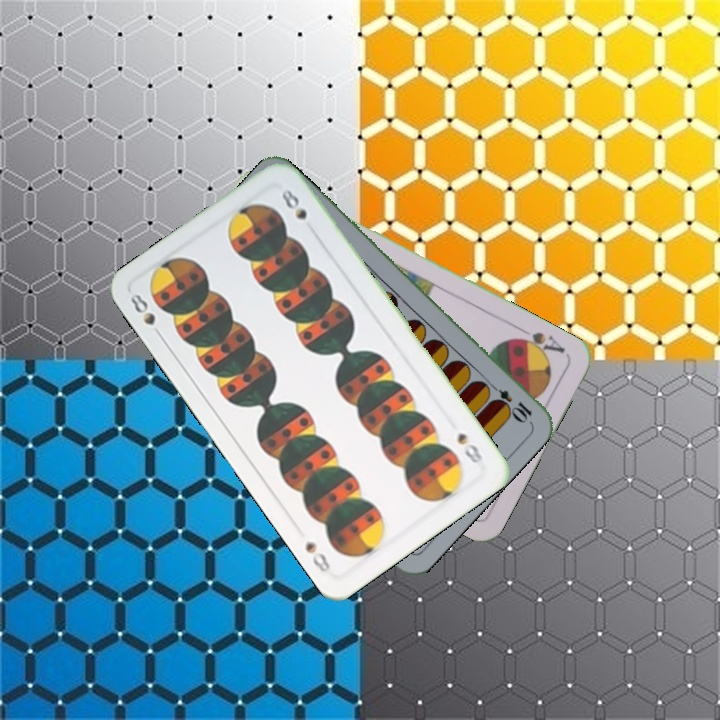E10: (483, 378, 535, 424)
S8: (126, 289, 166, 342), (453, 428, 487, 469)
SA: (509, 327, 568, 360)
